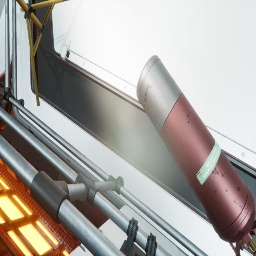NitrogenTank ,: (136, 55, 256, 256)
